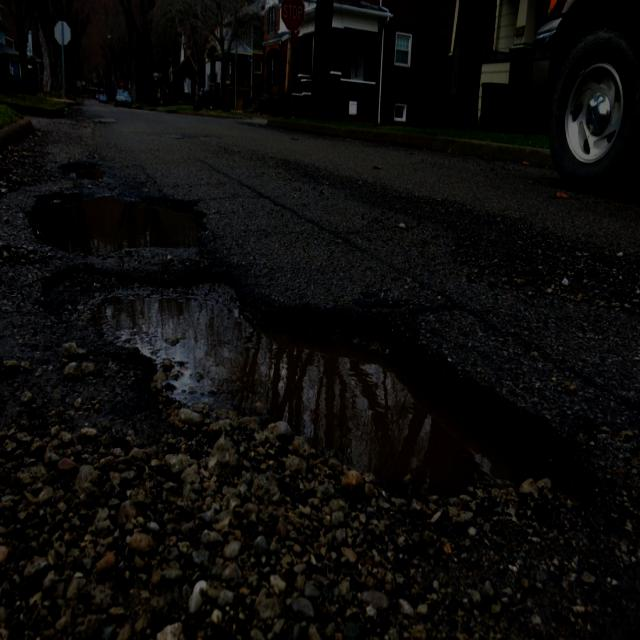Pothole: (25, 156, 602, 530)
